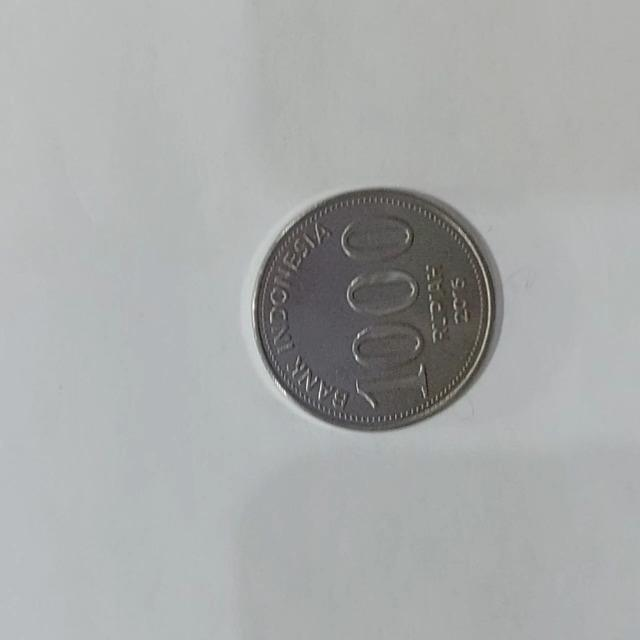Rp100: (249, 184, 499, 432)
